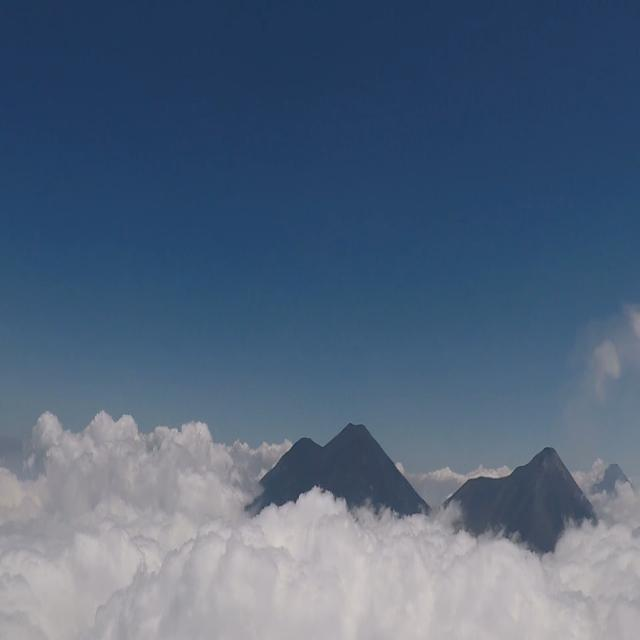Summit: (509, 444, 579, 481)
